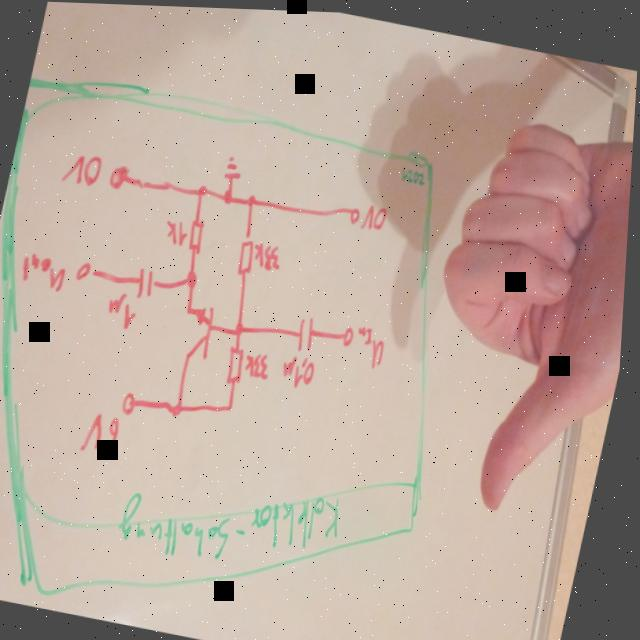capacitor: (291, 311, 328, 354), (130, 263, 167, 304)
ground: (219, 151, 248, 182)
junction: (170, 395, 194, 421), (183, 265, 205, 292), (245, 187, 263, 209), (222, 185, 240, 207), (235, 316, 251, 338), (196, 180, 213, 199), (228, 400, 242, 413)
resistor: (223, 340, 255, 387), (234, 230, 263, 280), (184, 212, 214, 258)
terminal: (120, 389, 148, 418), (108, 162, 133, 194), (76, 256, 102, 285), (341, 319, 362, 349), (347, 198, 367, 225)
text: (118, 456, 353, 585), (18, 248, 73, 294), (83, 411, 128, 457), (63, 146, 108, 190), (354, 321, 394, 368), (106, 289, 144, 332), (281, 352, 322, 390), (253, 237, 287, 272), (246, 348, 279, 381), (363, 200, 392, 230), (164, 218, 193, 247), (400, 163, 429, 186)
transistor: (174, 296, 227, 367)
